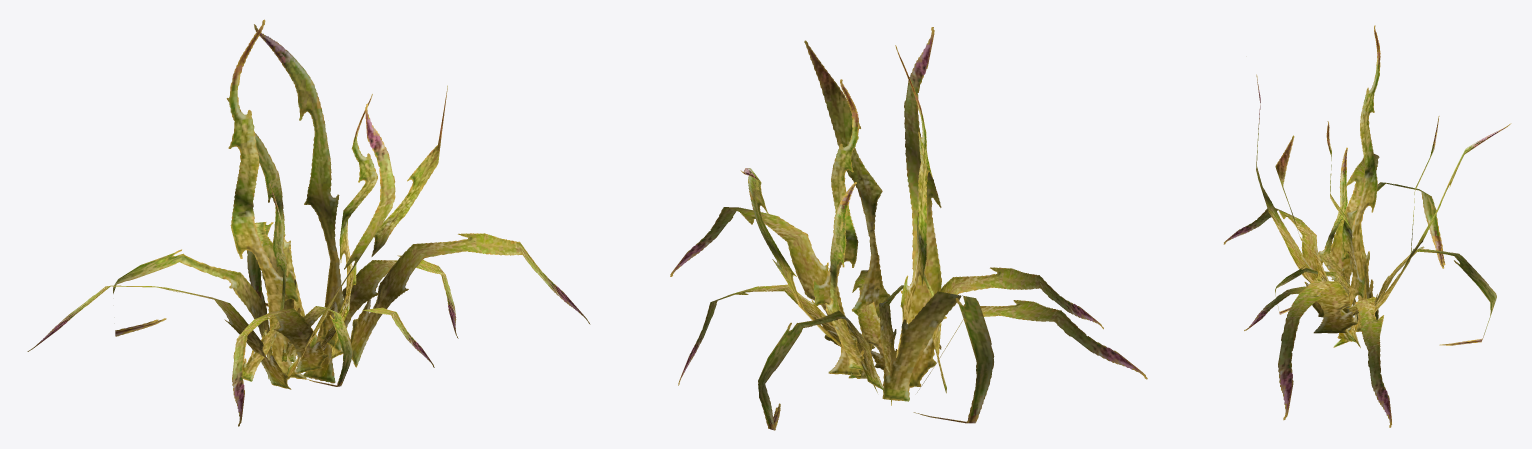
The model's file is core_leaf_razorgrass_field_l0.fbx.
3 views of the same model, side by side, from view 1: azimuth 30°, elevation 25°; view 2: azimuth 150°, elevation 25°; view 3: azimuth 270°, elevation 25° (orthographic). The views are drawn at different scales.
Parts seen in each view (by area): view 1: mesh_node; view 2: mesh_node; view 3: mesh_node.
Boxes of the visible parts, box(x1,y1,x2,y2) form: mesh_node: box(27, 19, 590, 426); mesh_node: box(670, 27, 1147, 430); mesh_node: box(1223, 25, 1511, 427).
Bounding box in the file's own units: 2.4 × 1.67 × 1.49.
